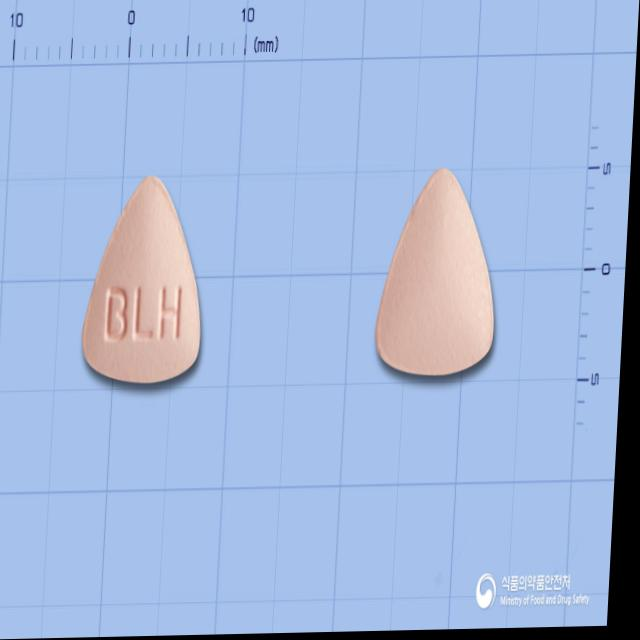Baracle: (80, 171, 217, 395)
